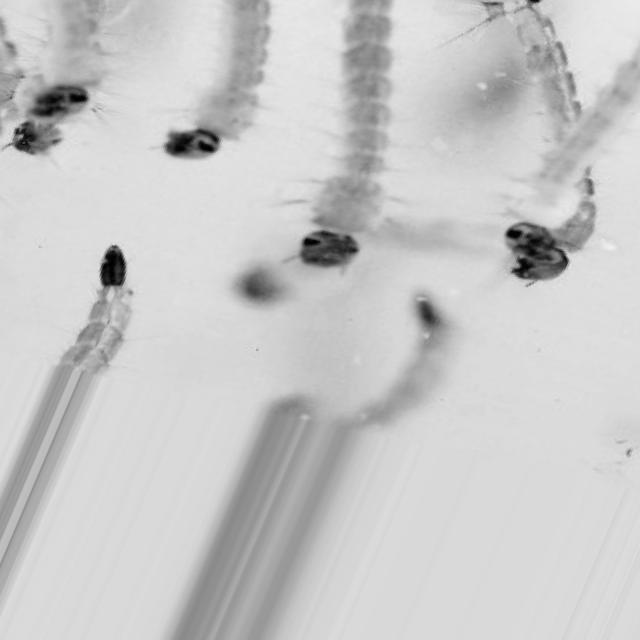larvas: (494, 34, 640, 286), (295, 2, 406, 290), (156, 0, 286, 199), (492, 0, 588, 152), (26, 0, 116, 132), (380, 282, 453, 419), (67, 249, 132, 364), (238, 243, 286, 325)
